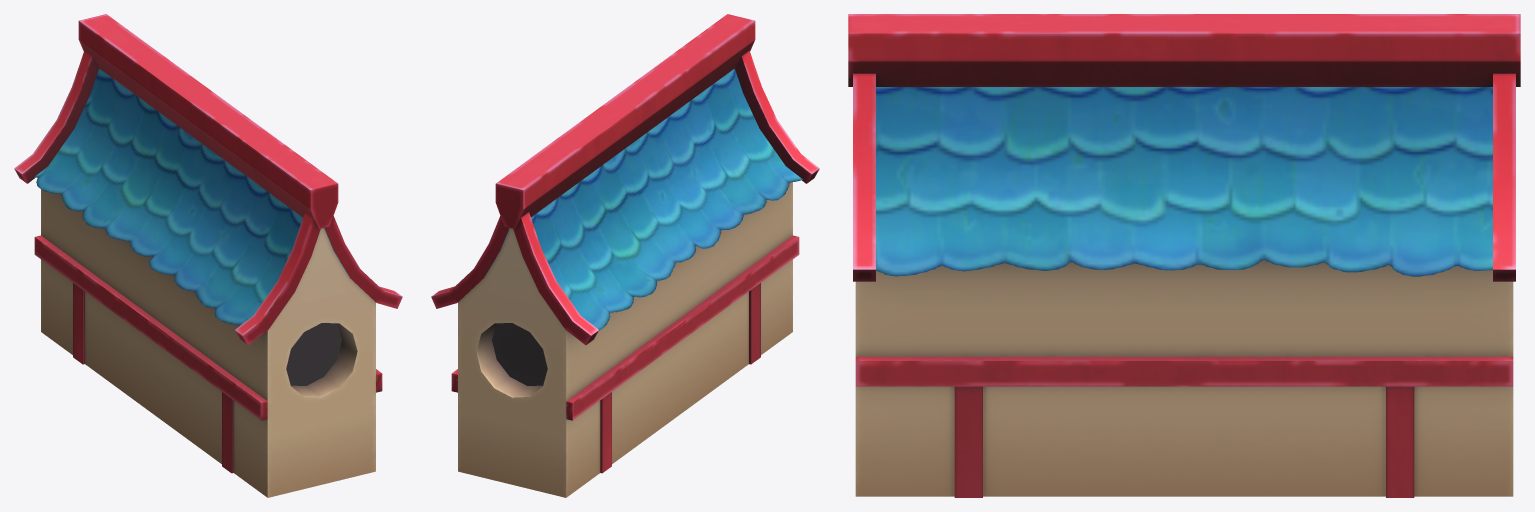
File: japan_wall.fbx
The picture shows the model from 3 angles, left to right: view 1: azimuth 30°, elevation 25°; view 2: azimuth 150°, elevation 25°; view 3: azimuth 270°, elevation 25°; orthographic projection. The views are drawn at different scales.
Parts seen in each view (by area): view 1: Cube.028; view 2: Cube.028; view 3: Cube.028.
Part boxes in pixels (x1,y1,x2,y2): Cube.028: (14, 14, 402, 497); Cube.028: (431, 14, 819, 497); Cube.028: (848, 14, 1520, 497).
Size of the model in its own units: 788 by 1408 by 1975.
